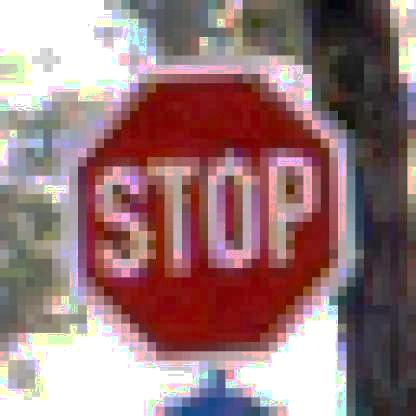Stop Sign: (61, 65, 354, 368)
